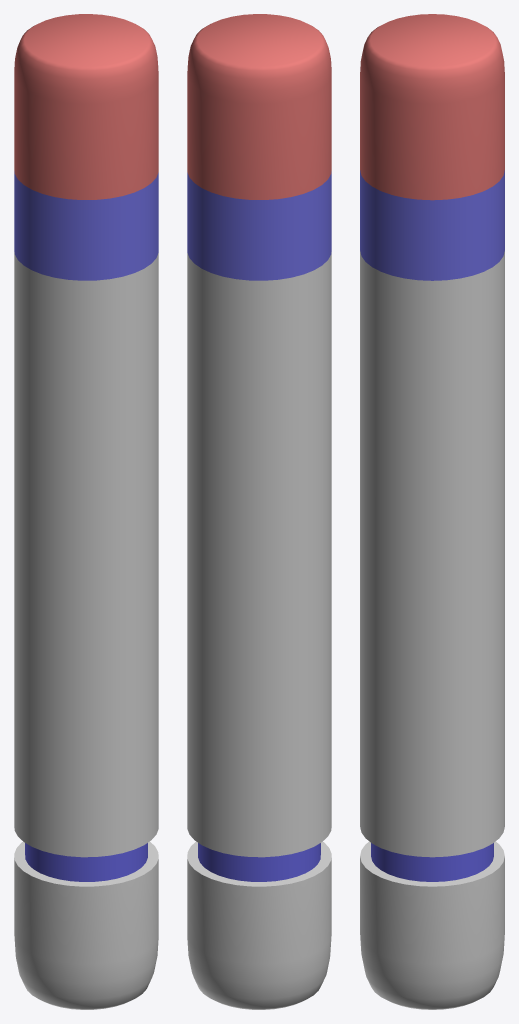
File: Handle.fbx
The picture shows the model from 3 angles, left to right: view 1: azimuth 30°, elevation 25°; view 2: azimuth 150°, elevation 25°; view 3: azimuth 270°, elevation 25°; orthographic projection.
Parts seen in each view (by area): view 1: Handle; view 2: Handle; view 3: Handle.
Boxes of the visible parts, <box> form: Handle: <box>14,14,158,1009</box>; Handle: <box>187,14,331,1009</box>; Handle: <box>360,14,504,1009</box>.
Size of the model in its own units: 2.78 by 20 by 2.78.
